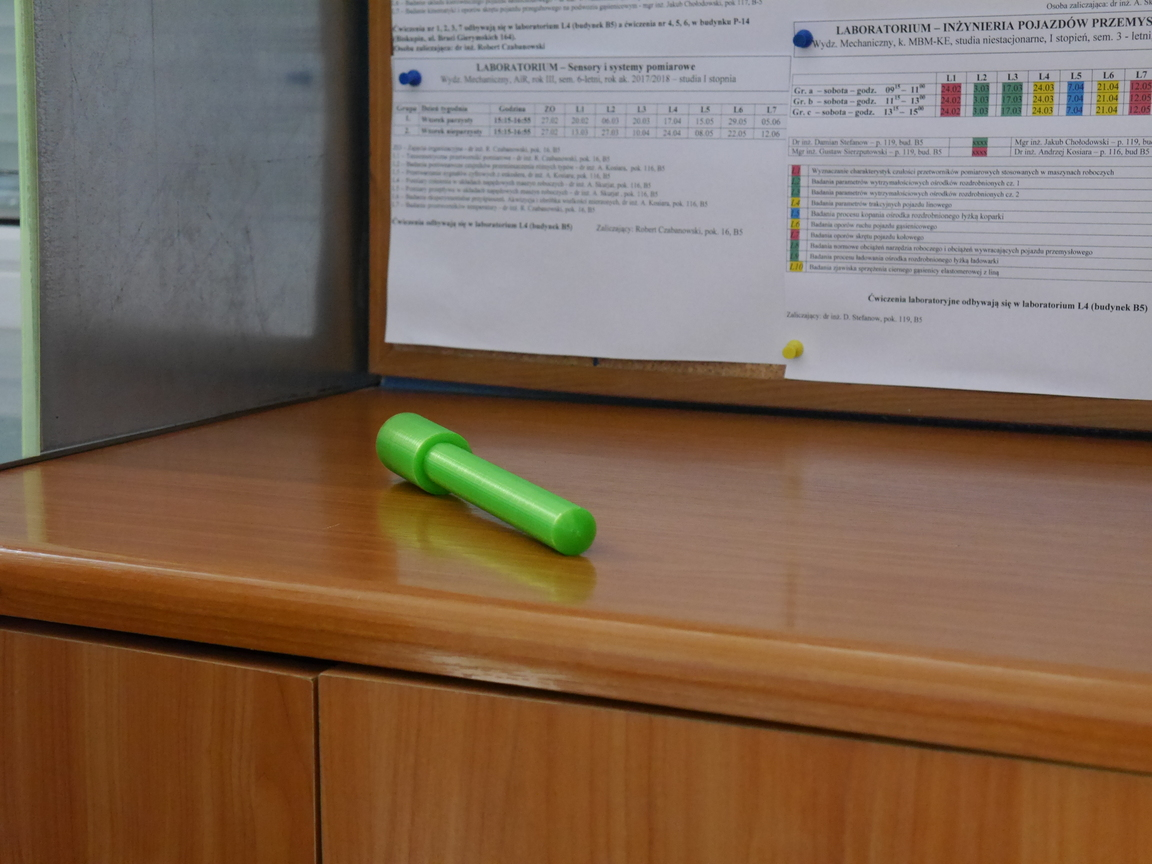cargo_g: (374, 411, 601, 559)
